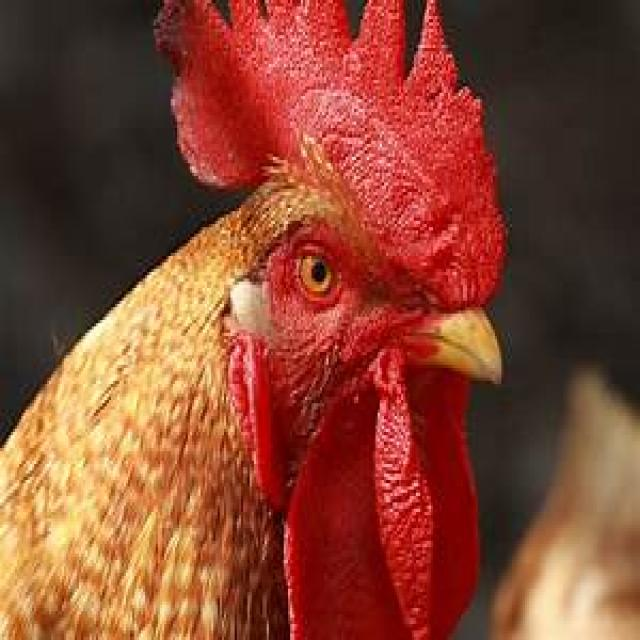hen: (0, 0, 512, 640)
